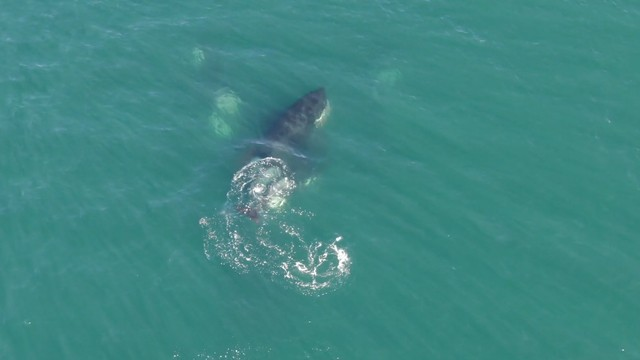whale: (223, 83, 335, 229)
